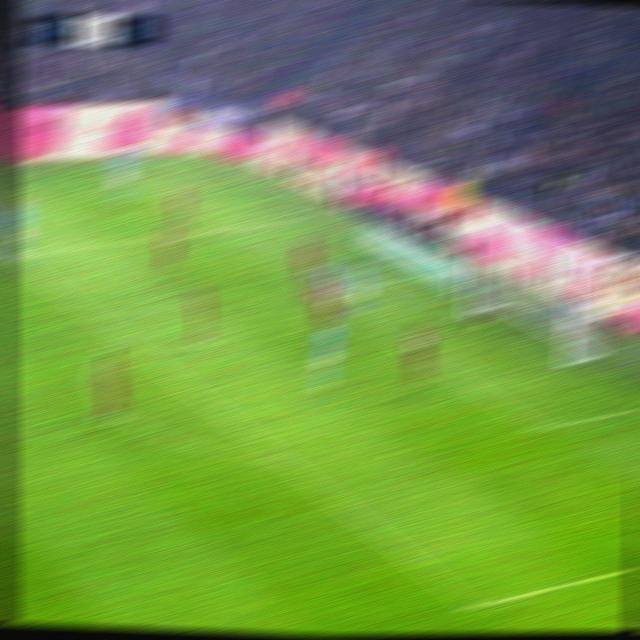bigarea_bottom_inner: (458, 594, 485, 620)
bigarea_top_inner: (4, 248, 23, 264)
bigarea_top_outter: (288, 215, 307, 224)
bottom_arc_area_intersection: (268, 450, 292, 468)
corner: (174, 155, 196, 162)
smallarea_bottom_inner: (526, 414, 554, 439)
smallarea_bottom_outter: (633, 397, 640, 414)
smallarea_top_outter: (396, 274, 414, 284)
top_arc_area_intersection: (110, 331, 132, 346)
